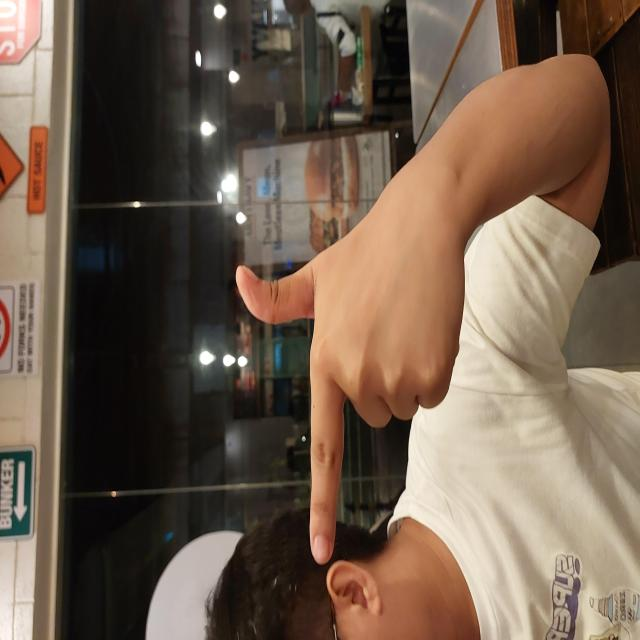G: (73, 233, 465, 466)
